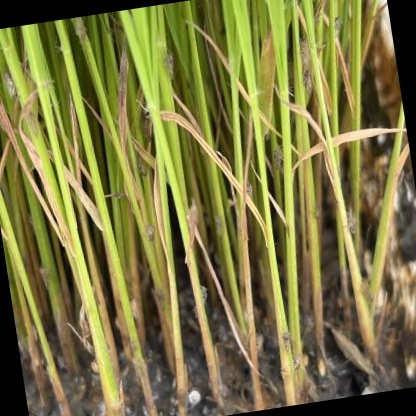Brown_hopper: (293, 34, 314, 74), (157, 47, 180, 83), (33, 259, 55, 292), (0, 67, 20, 103), (340, 211, 363, 240), (354, 274, 374, 307), (266, 142, 287, 173), (324, 15, 347, 43), (387, 166, 409, 194), (296, 69, 317, 98), (134, 115, 152, 146), (70, 18, 89, 47), (139, 218, 160, 244), (151, 286, 169, 316), (249, 329, 268, 356), (276, 330, 294, 356), (127, 354, 145, 380), (288, 350, 306, 375), (107, 394, 127, 416), (125, 297, 140, 325), (133, 157, 149, 183), (211, 213, 226, 239), (196, 281, 211, 307), (241, 183, 256, 208), (274, 364, 291, 386), (307, 202, 325, 219), (127, 335, 140, 353), (189, 306, 201, 325), (88, 359, 100, 377)
